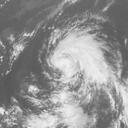cyclone: (41, 28, 111, 95)
